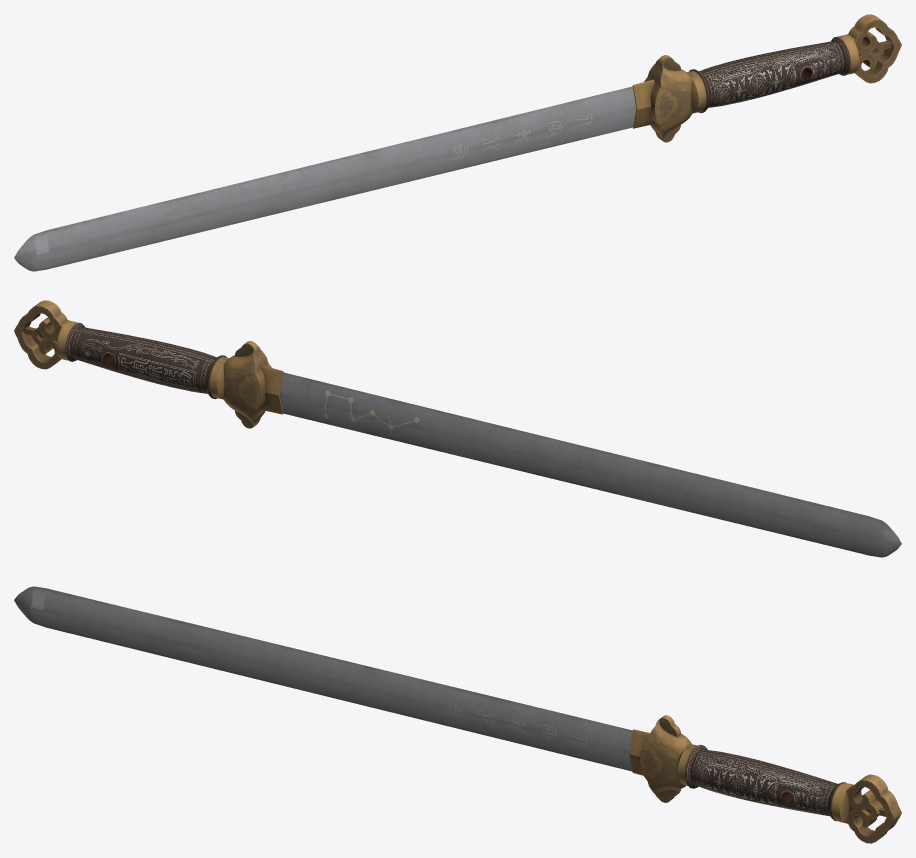
File: sword.glb
The picture shows the model from 3 angles, top to bottom: view 1: azimuth 30°, elevation 25°; view 2: azimuth 150°, elevation 25°; view 3: azimuth 330°, elevation 25°; orthographic projection.
Parts seen in each view (by area): view 1: Sainchamsa_geom; view 2: Sainchamsa_geom; view 3: Sainchamsa_geom.
Boxes of the visible parts, x1,y1,x2,y2 form: Sainchamsa_geom: (14,14,901,271); Sainchamsa_geom: (14,300,901,557); Sainchamsa_geom: (14,586,901,843).
Size of the model in its own units: 1.5 by 0.1375 by 0.0664.
1 material, 1 textured.
